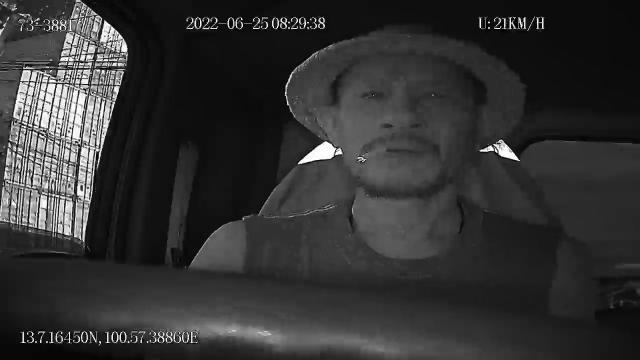SafeDriving: (354, 76, 391, 108), (412, 82, 449, 111)
Smoking: (354, 144, 386, 166)
